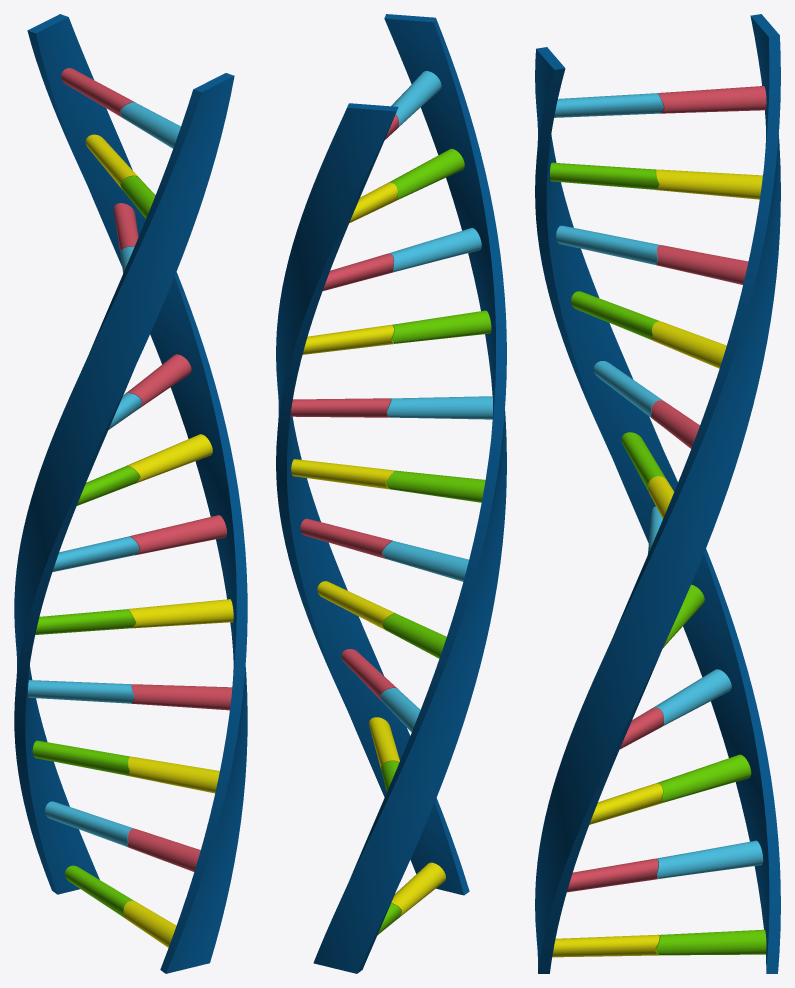
The model's file is DNA_ExemploColorido.fbx.
3 renders of one model, left to right at view 1: azimuth 30°, elevation 25°; view 2: azimuth 150°, elevation 25°; view 3: azimuth 270°, elevation 25°, orthographic. The views are drawn at different scales.
Parts seen in each view (by area): view 1: pasted__group23_pasted__pasted__group6_pasted__pasted__paste, pasted__pasted__pasted__pCylinder17, pasted__pasted__pasted__pasted__pCylinder12, pasted__pasted__pasted__pasted__pCylinder15, pasted__pasted__pasted__pasted__pasted__pCylinder6, pasted__pasted__pasted__pCylinder16, pasted__pasted__pasted__pasted__pCylinder11, pasted__pasted__pasted__pasted__pCylinder14, pasted__pasted__pasted__pasted__pCylinder16, pasted__pasted__pasted__pasted__pCylinder17, pasted__pasted__pasted__pasted__pasted__pCylinder10, pasted__pasted__pasted__pCylinder18 (+10 smaller); view 2: pasted__group23_pasted__pasted__group6_pasted__pasted__paste, pasted__pasted__pasted__pasted__pasted__pasted__pCylinder5, pasted__pasted__pasted__pasted__pasted__pCylinder7, pasted__pasted__pasted__pasted__pasted__pCylinder11, pasted__pasted__pasted__pasted__pasted__pasted__pCylinder2, pasted__pasted__pasted__pasted__pCylinder16, pasted__pasted__pasted__pasted__pasted__pCylinder12, pasted__pasted__pasted__pasted__pasted__pCylinder10, pasted__pasted__pasted__pasted__pCylinder13, pasted__pasted__pasted__pasted__pasted__pasted__pCylinder3, pasted__pasted__pasted__pasted__pCylinder15, pasted__pasted__pasted__pCylinder17 (+8 smaller); view 3: pasted__group23_pasted__pasted__group6_pasted__pasted__paste, pasted__pasted__pasted__pCylinder15, pasted__pasted__pasted__pasted__pCylinder17, pasted__pasted__pasted__pasted__pasted__pasted__pCylinder4, pasted__pasted__pasted__pasted__pasted__pCylinder9, pasted__pasted__pasted__pasted__pasted__pasted__pCylinder3, pasted__pasted__pasted__pasted__pCylinder11, pasted__pasted__pasted__pasted__pasted__pasted__pasted__pCyl, pasted__pasted__pCylinder13, pasted__pasted__pasted__pasted__pasted__pCylinder8, pasted__pasted__pasted__pasted__pasted__pasted__pCylinder2, pasted__pasted__pasted__pasted__pasted__pCylinder6 (+10 smaller).
Boxes of the visible parts, box(x1,y1,x2,y2) form: pasted__group23_pasted__pasted__group6_pasted__pasted__paste: box(14, 14, 247, 973); pasted__pasted__pasted__pCylinder17: box(129, 599, 233, 628); pasted__pasted__pasted__pasted__pCylinder12: box(131, 684, 232, 710); pasted__pasted__pasted__pasted__pCylinder15: box(130, 515, 226, 555); pasted__pasted__pasted__pasted__pasted__pCylinder6: box(28, 680, 134, 703); pasted__pasted__pasted__pCylinder16: box(128, 756, 219, 793); pasted__pasted__pasted__pasted__pCylinder11: box(32, 740, 130, 775); pasted__pasted__pasted__pasted__pCylinder14: box(35, 609, 135, 634); pasted__pasted__pasted__pasted__pCylinder16: box(126, 434, 212, 483); pasted__pasted__pasted__pasted__pCylinder17: box(45, 801, 133, 846); pasted__pasted__pasted__pasted__pasted__pCylinder10: box(52, 536, 139, 571); pasted__pasted__pasted__pCylinder18: box(127, 828, 200, 871); pasted__group23_pasted__pasted__group6_pasted__pasted__paste: box(276, 14, 506, 973); pasted__pasted__pasted__pasted__pasted__pasted__pCylinder5: box(387, 396, 492, 419); pasted__pasted__pasted__pasted__pasted__pCylinder7: box(391, 310, 491, 343); pasted__pasted__pasted__pasted__pasted__pCylinder11: box(385, 470, 485, 502); pasted__pasted__pasted__pasted__pasted__pasted__pCylinder2: box(388, 228, 481, 272); pasted__pasted__pasted__pasted__pCylinder16: box(291, 459, 393, 489); pasted__pasted__pasted__pasted__pasted__pCylinder12: box(290, 398, 390, 417); pasted__pasted__pasted__pasted__pasted__pCylinder10: box(382, 541, 468, 581); pasted__pasted__pasted__pasted__pCylinder13: box(302, 325, 393, 354); pasted__pasted__pasted__pasted__pasted__pasted__pCylinder3: box(388, 148, 464, 199); pasted__pasted__pasted__pasted__pCylinder15: box(300, 518, 392, 558); pasted__pasted__pasted__pCylinder17: box(317, 581, 396, 630); pasted__group23_pasted__pasted__group6_pasted__pasted__paste: box(535, 14, 780, 973); pasted__pasted__pasted__pCylinder15: box(655, 929, 766, 955); pasted__pasted__pasted__pasted__pCylinder17: box(656, 840, 763, 878); pasted__pasted__pasted__pasted__pasted__pasted__pCylinder4: box(658, 86, 766, 113); pasted__pasted__pasted__pasted__pasted__pCylinder9: box(656, 169, 762, 199); pasted__pasted__pasted__pasted__pasted__pasted__pCylinder3: box(550, 162, 659, 189); pasted__pasted__pasted__pasted__pCylinder11: box(656, 754, 751, 802); pasted__pasted__pasted__pasted__pasted__pasted__pasted__pCyl: box(554, 93, 663, 117); pasted__pasted__pCylinder13: box(552, 934, 659, 957); pasted__pasted__pasted__pasted__pasted__pCylinder8: box(656, 245, 748, 284); pasted__pasted__pasted__pasted__pasted__pasted__pCylinder2: box(556, 225, 659, 265); pasted__pasted__pasted__pasted__pasted__pCylinder6: box(652, 669, 731, 725).
Size of the model in its own units: 2.27 by 9.38 by 2.27.
